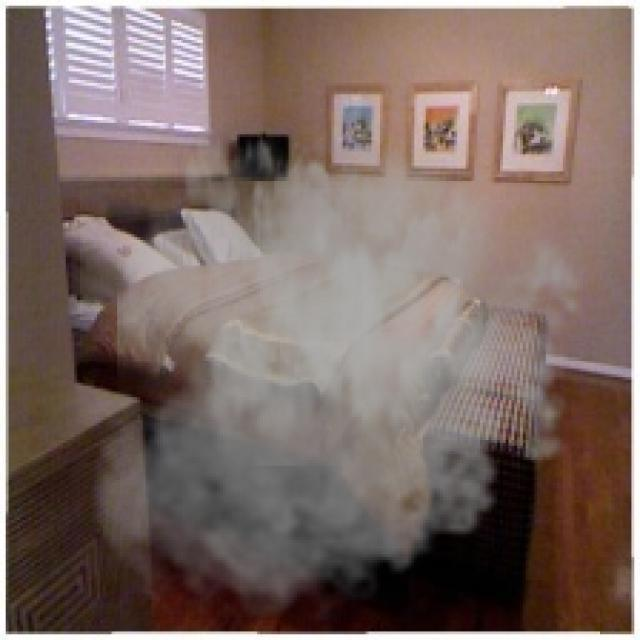Smoke: (80, 95, 600, 634)
